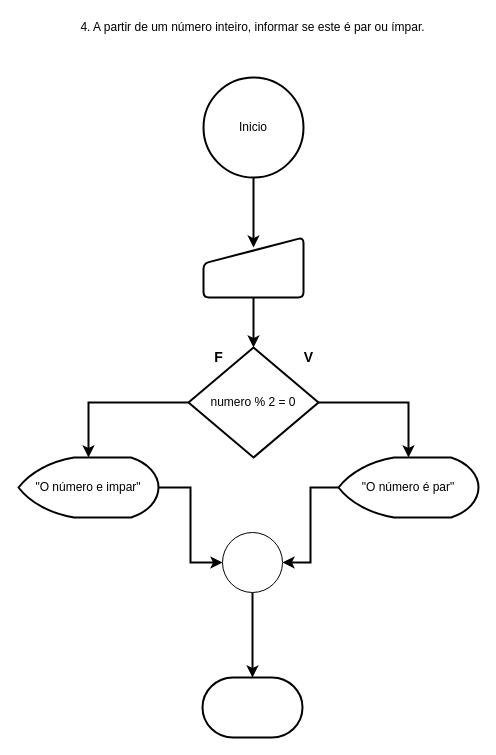
The diagram is 496 pixels wide and 755 high, and some of its shapes have lost their labels. Each missing label, with the centre of its shape:
"Fim" belongs at point 252,707.
"numero" belongs at point 253,267.
